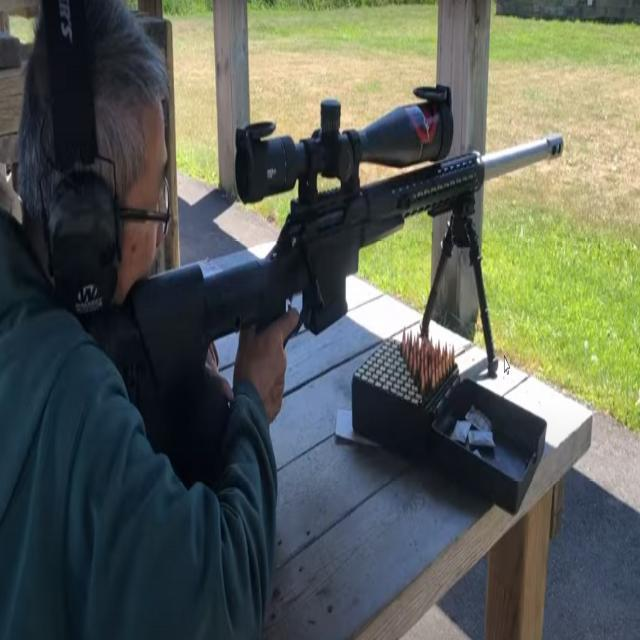rifle: (72, 74, 576, 442)
